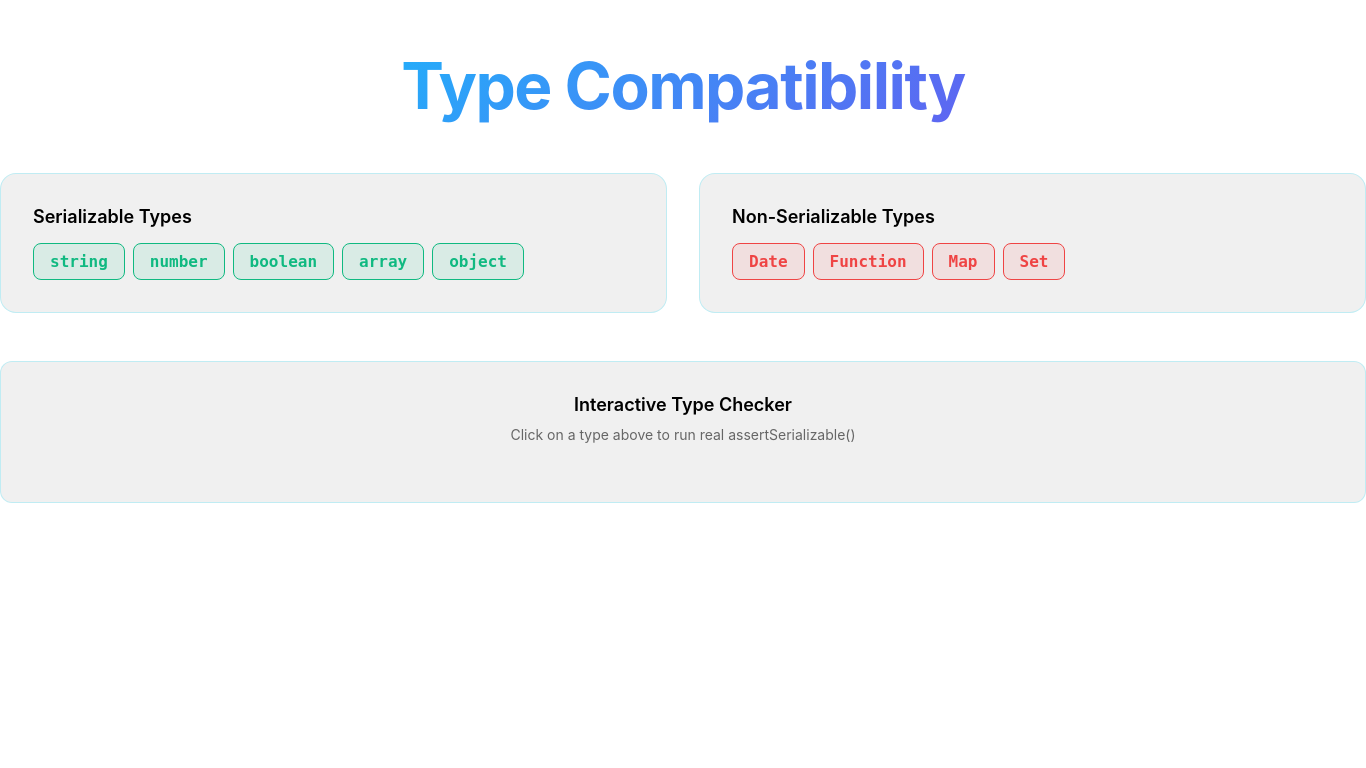
Scenario: TypeDemo › real runtime validation › should display validation output area when type is selected
The image size is (1366, 768).
Click the button with test id "type-card-string" at (79, 262), box x1=33 y1=243 x2=125 y2=280
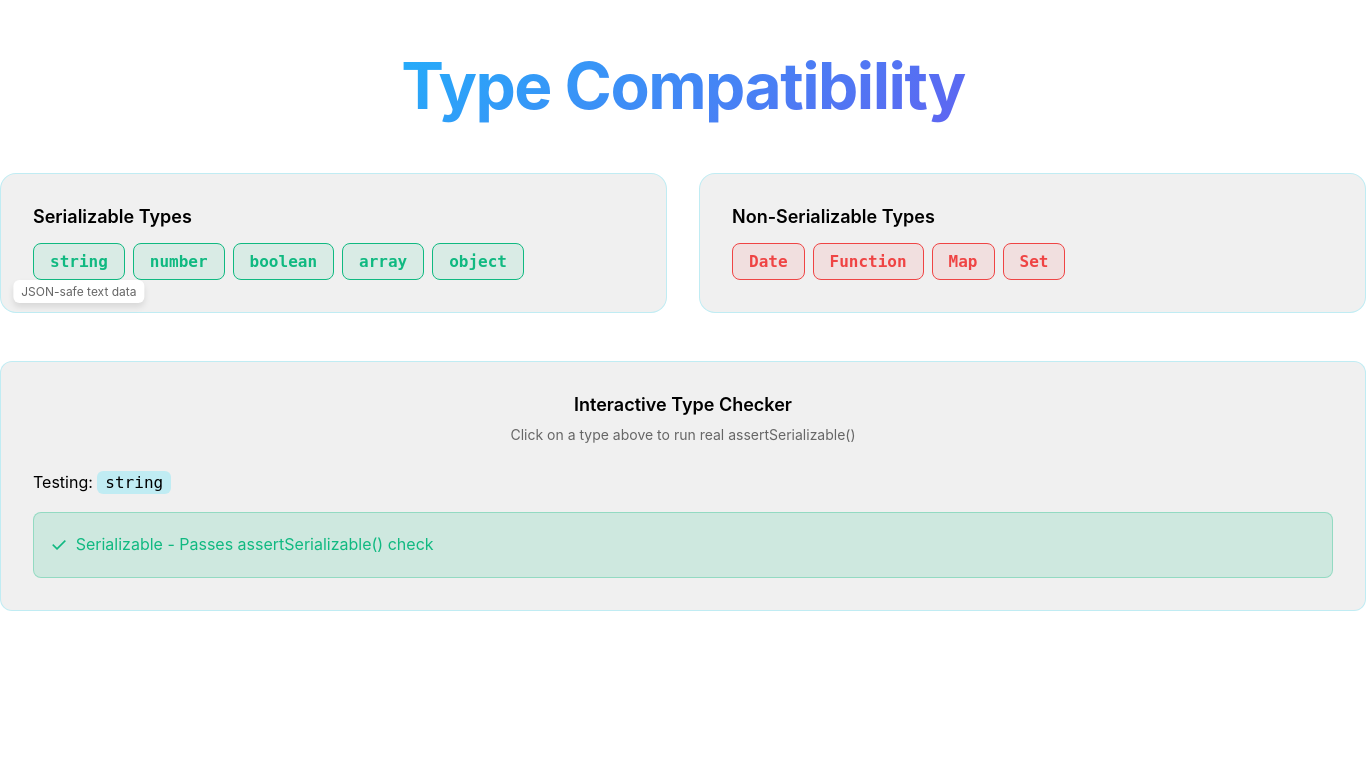
Check: the element with test id "validation-output" is shown, box x1=33 y1=512 x2=1333 y2=578
